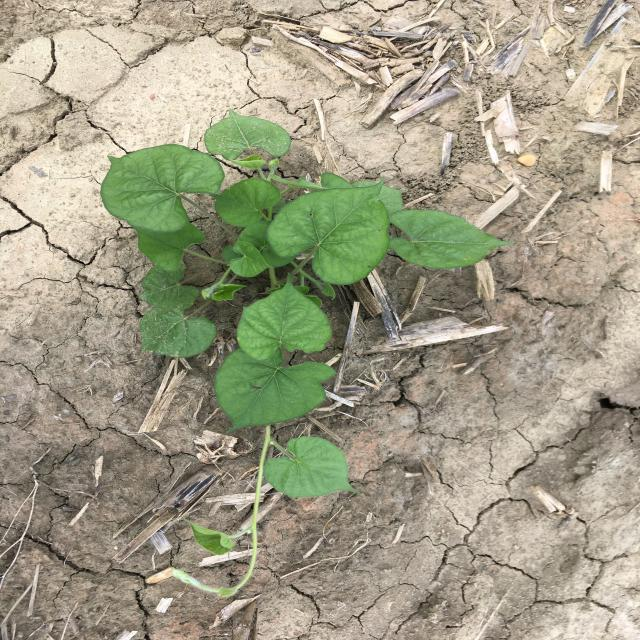MorningGlory: (101, 107, 515, 598)
